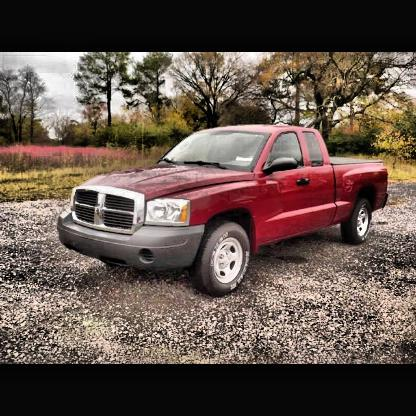Dodge Dakota Club Cab 2007: (56, 124, 391, 300)
